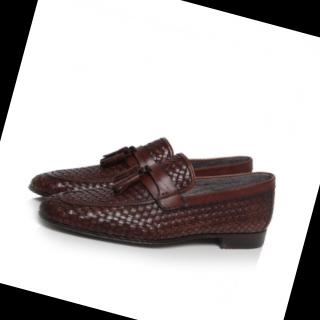loafers: (15, 98, 288, 286)
